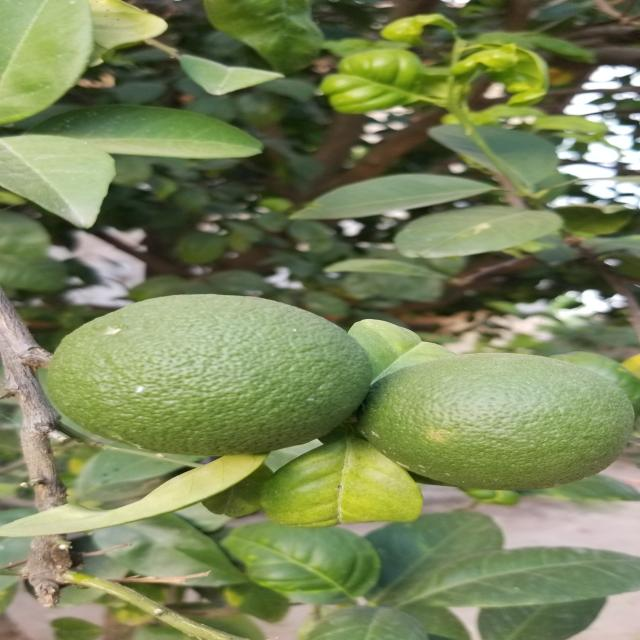Unripe: (39, 292, 376, 459), (362, 344, 630, 497)
